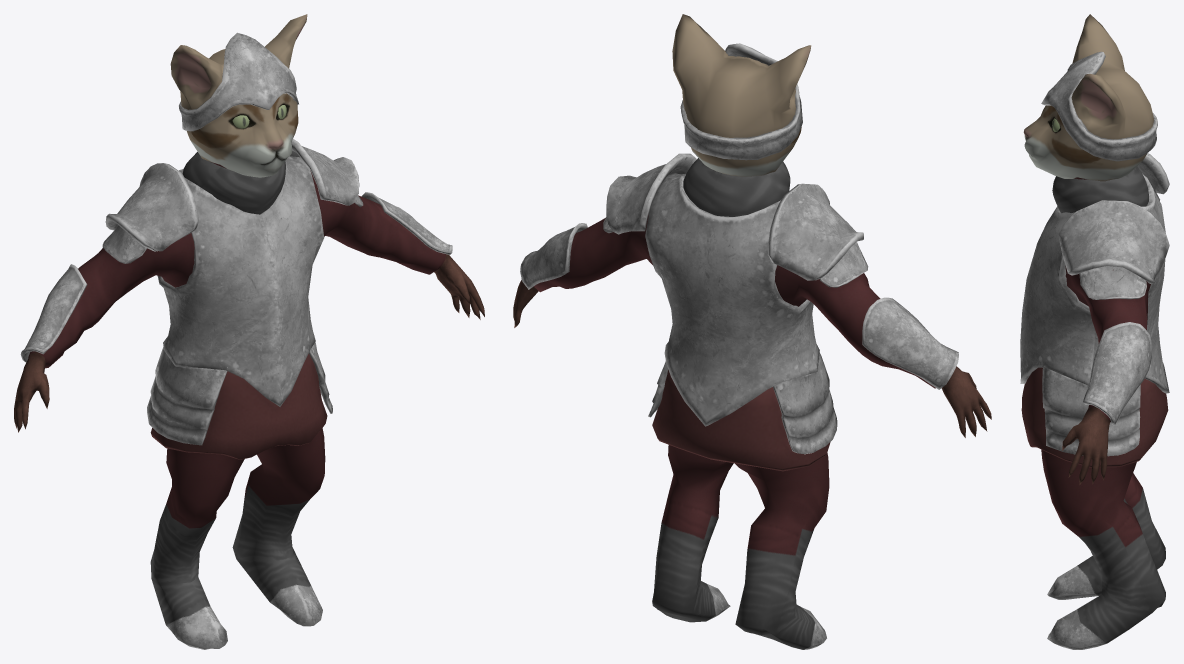
File: Kedi_final.fbx
The picture shows the model from 3 angles, left to right: view 1: azimuth 30°, elevation 25°; view 2: azimuth 150°, elevation 25°; view 3: azimuth 270°, elevation 25°; orthographic projection. The views are drawn at different scales.
Parts seen in each view (by area): view 1: kediboyun_low; view 2: kediboyun_low; view 3: kediboyun_low.
Boxes of the visible parts, x1,y1,x2,y2 form: kediboyun_low: (14,14,484,649); kediboyun_low: (513,14,991,649); kediboyun_low: (1020,14,1169,649).
Bounding box in the file's own units: 852 × 1049 × 246.
1 material, 1 textured.
